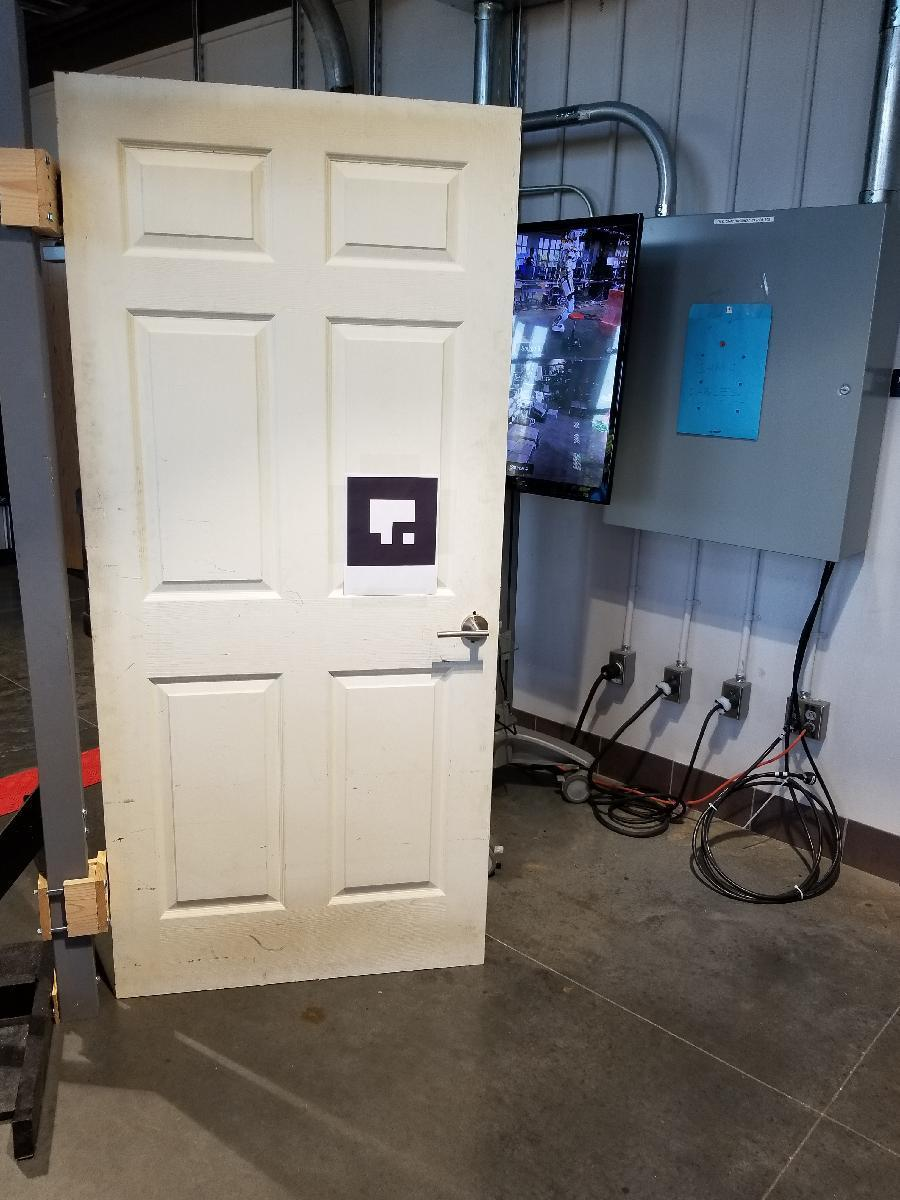door: (116, 73, 502, 973)
handle: (433, 612, 493, 648)
